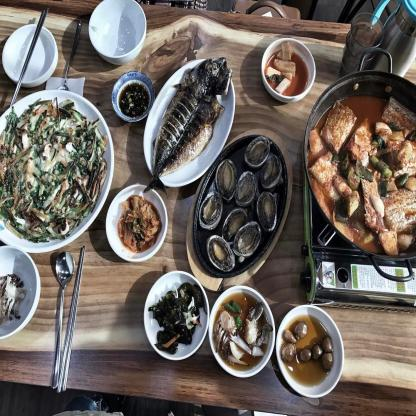Peixe: (146, 49, 230, 191)
